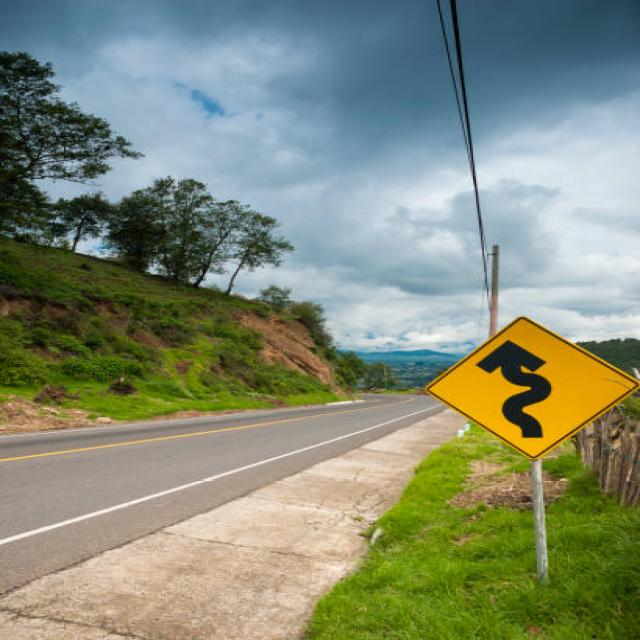left_sharp_curve: (404, 309, 636, 466)
